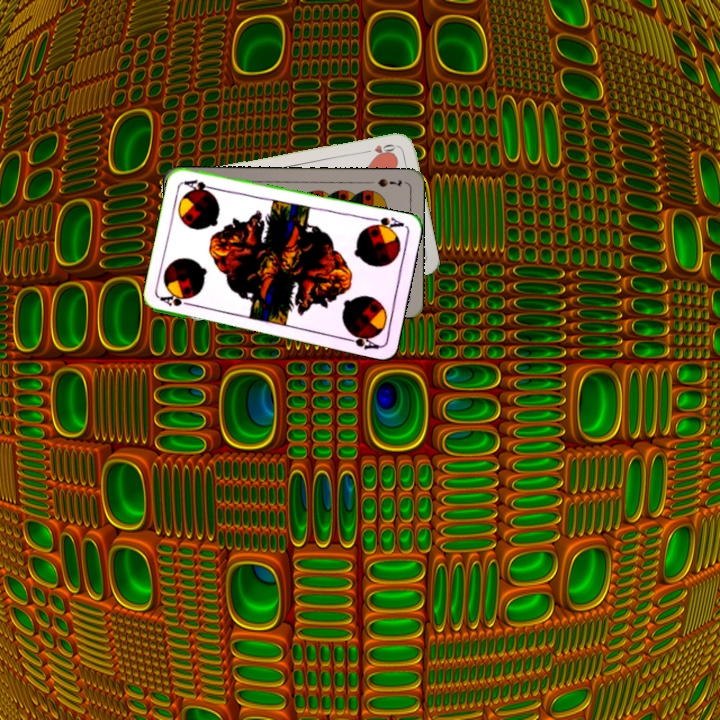HO: (360, 140, 400, 157)
S7: (374, 174, 404, 190)
SA: (365, 213, 407, 234), (157, 290, 197, 309)
